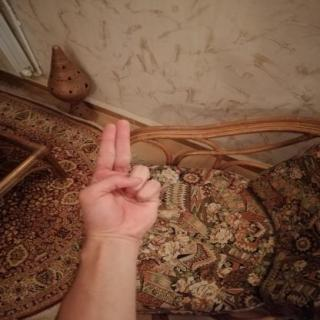TA: (69, 111, 172, 248)
